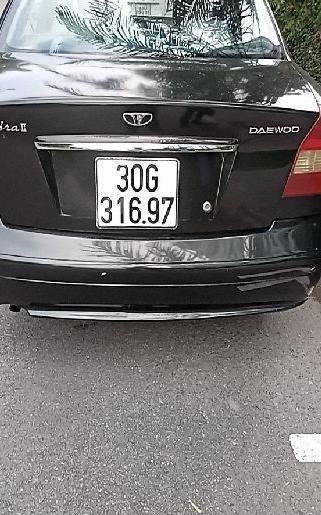Plate-iWeP: (96, 156, 179, 230)
